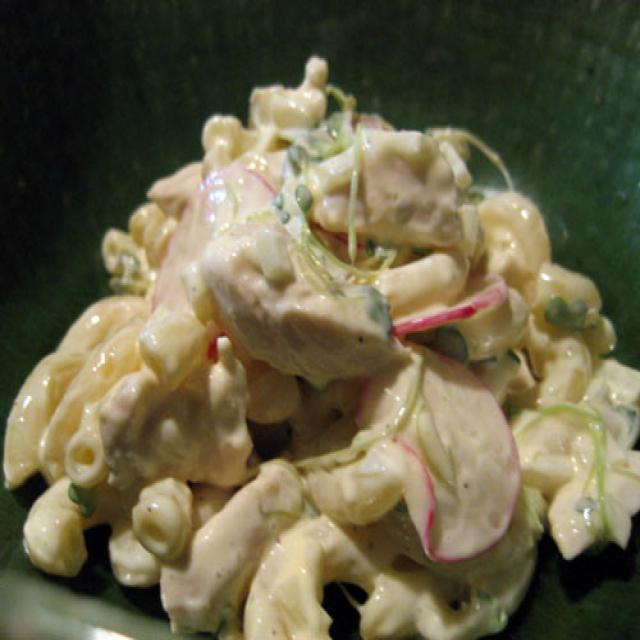蔬菜料理: (0, 31, 634, 635)
